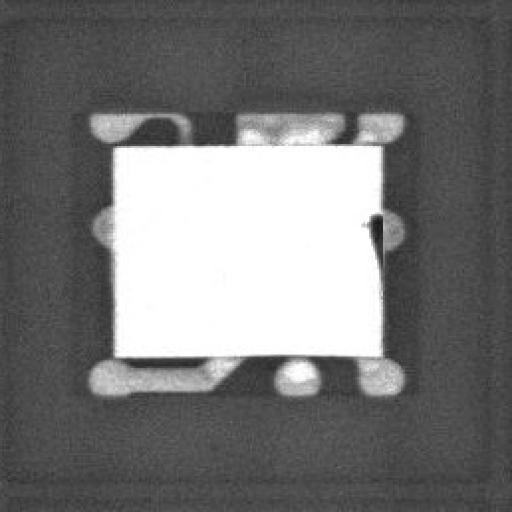DIE_BROKEN: (361, 206, 385, 266)
